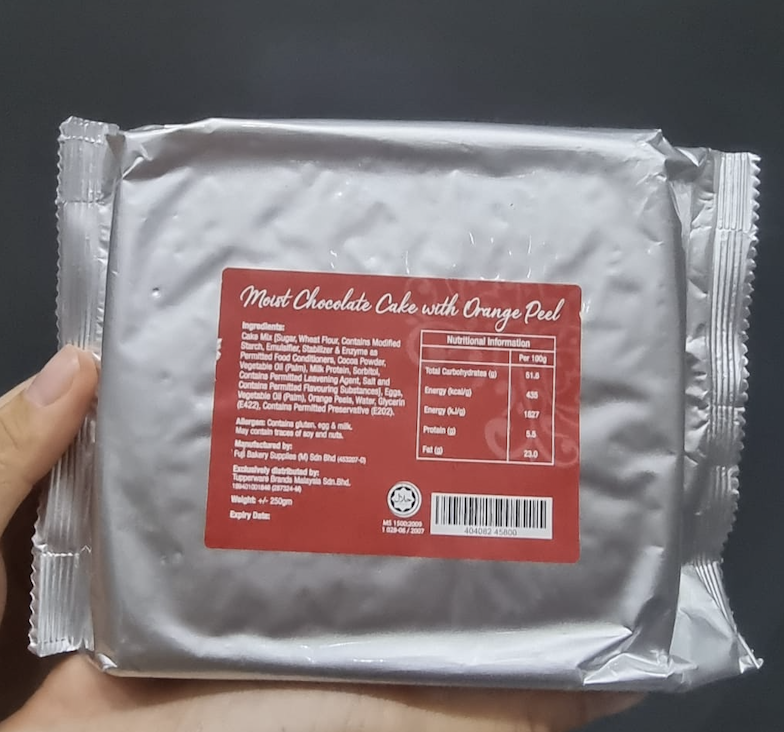Halal: (393, 490, 414, 508)
